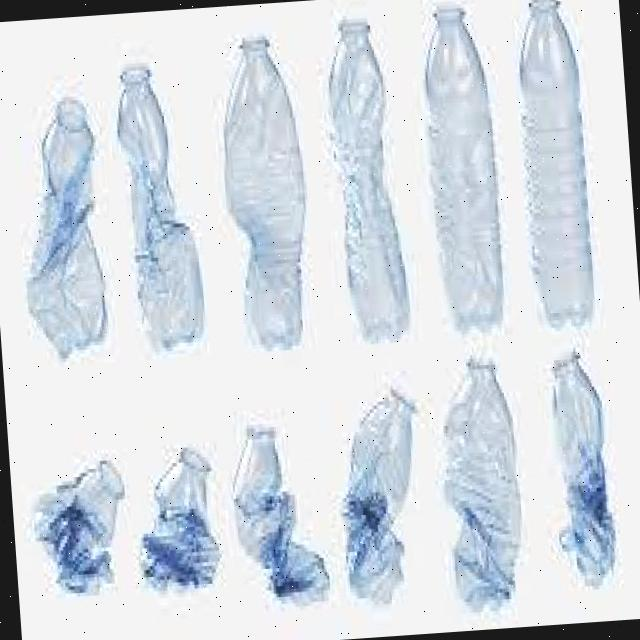bottle: (313, 10, 418, 357), (210, 24, 318, 361), (106, 49, 216, 372), (502, 0, 605, 334), (414, 0, 512, 343), (11, 77, 121, 382), (425, 348, 538, 626), (328, 374, 437, 609), (222, 398, 332, 618), (538, 346, 626, 590), (31, 437, 136, 608), (134, 427, 236, 603)
